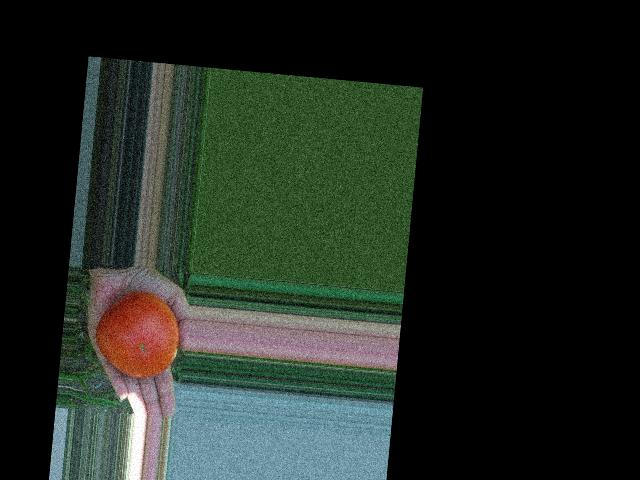tomato: (91, 288, 182, 381)
